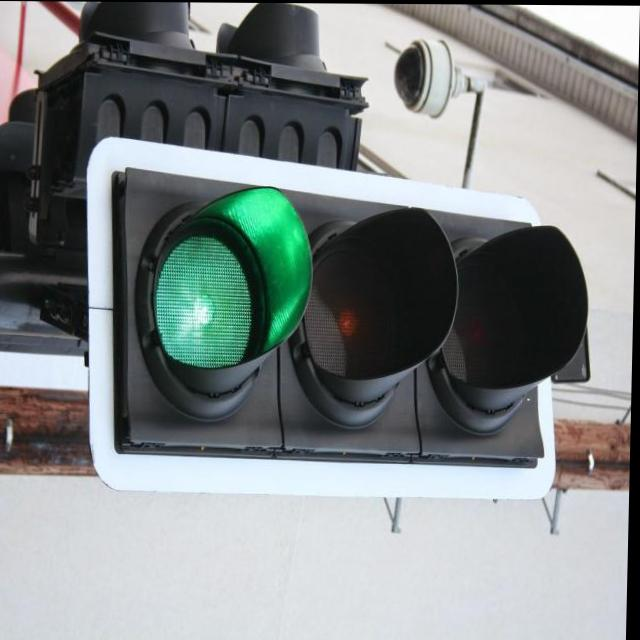green light: (116, 176, 587, 448)
